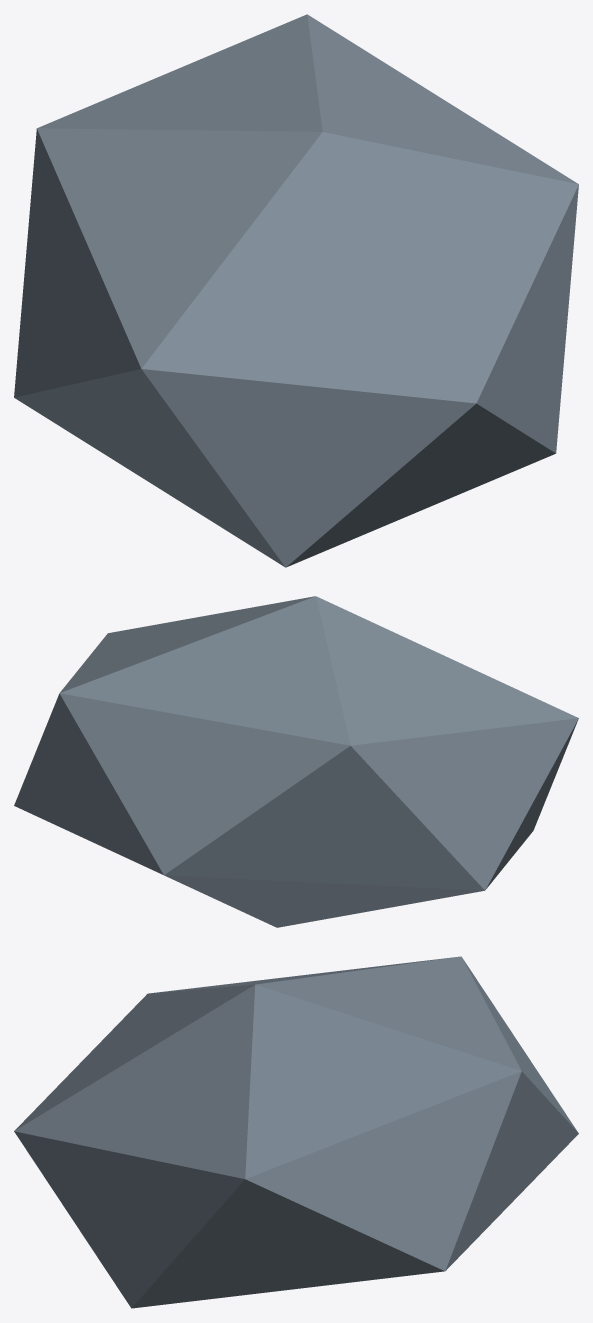
Rendered from INT_BC_RubbleNorth_00_Stone_3.glb.
3 views of the same model, one above another, from view 1: azimuth 30°, elevation 25°; view 2: azimuth 150°, elevation 25°; view 3: azimuth 270°, elevation 25° (orthographic). The views are drawn at different scales.
Parts seen in each view (by area): view 1: INT_BC_RubbleNorth_00_Stone_3; view 2: INT_BC_RubbleNorth_00_Stone_3; view 3: INT_BC_RubbleNorth_00_Stone_3.
Boxes of the visible parts, x1=… form: INT_BC_RubbleNorth_00_Stone_3: x1=14, y1=14, x2=578, y2=567; INT_BC_RubbleNorth_00_Stone_3: x1=14, y1=596, x2=578, y2=927; INT_BC_RubbleNorth_00_Stone_3: x1=14, y1=956, x2=578, y2=1308.
Bounding box in the file's own units: 0.1507 × 0.1009 × 0.1738.
